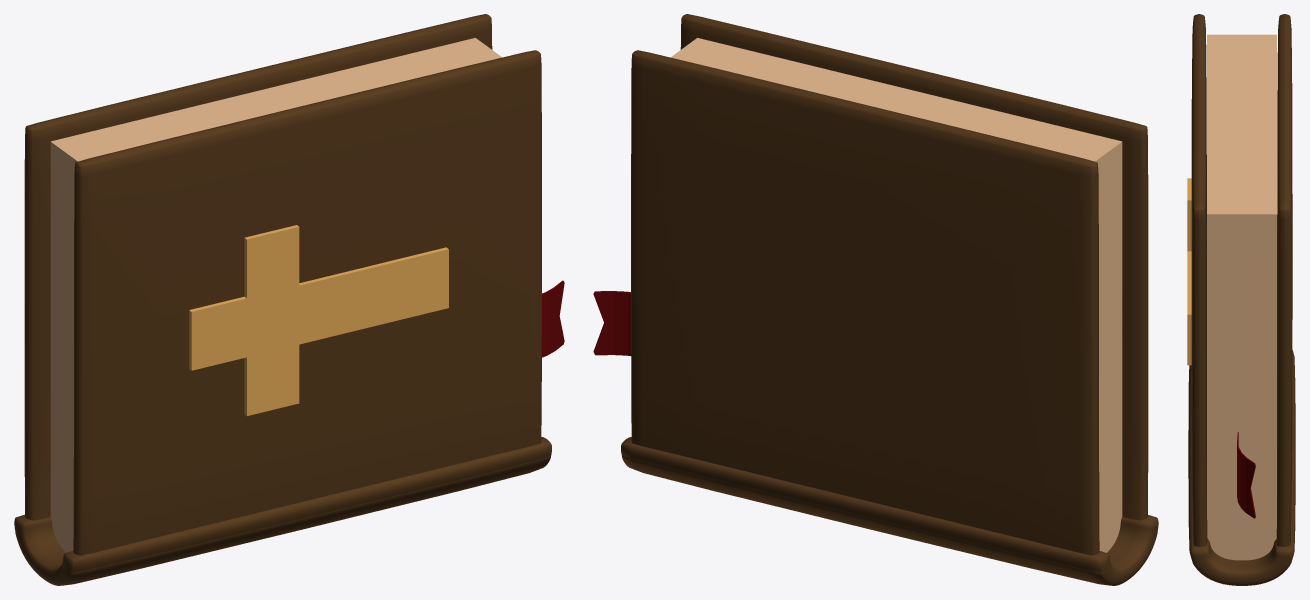
Rendered from biblia.fbx.
3 views of the same model, side by side, from view 1: azimuth 30°, elevation 25°; view 2: azimuth 150°, elevation 25°; view 3: azimuth 270°, elevation 25° (orthographic). The views are drawn at different scales.
Parts seen in each view (by area): view 1: biblia_cover, biblia_cross, biblia_pages, biblia_spline, bookmark; view 2: biblia_cover, biblia_pages, biblia_spline, bookmark; view 3: biblia_pages, biblia_cover, biblia_spline, bookmark, biblia_cross.
Part boxes in pixels (left/top/right/bottom): biblia_cover: left=24, top=14, right=541, bottom=555; biblia_cross: left=189, top=225, right=448, bottom=415; biblia_pages: left=50, top=38, right=502, bottom=552; biblia_spline: left=14, top=437, right=551, bottom=585; bookmark: left=542, top=280, right=564, bottom=357; biblia_cover: left=631, top=14, right=1148, bottom=555; biblia_pages: left=671, top=38, right=1122, bottom=552; biblia_spline: left=621, top=437, right=1158, bottom=585; bookmark: left=593, top=291, right=631, bottom=355; biblia_pages: left=1207, top=34, right=1276, bottom=560; biblia_cover: left=1191, top=14, right=1292, bottom=546; biblia_spline: left=1188, top=350, right=1295, bottom=585; bookmark: left=1237, top=432, right=1255, bottom=518; biblia_cross: left=1187, top=178, right=1191, bottom=365.
Size of the model in its own units: 205 by 161 by 41.86.
